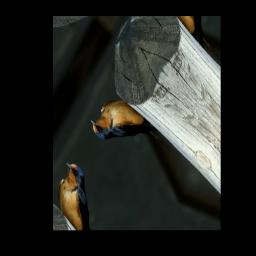Swallow: (87, 83, 175, 192)
